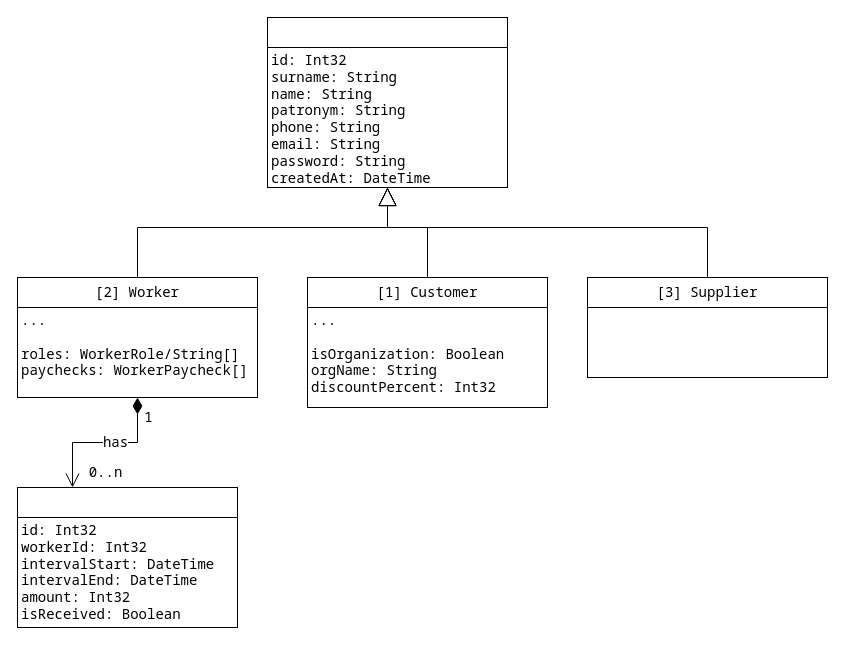
Image size: 845x645. Some labels were removed from this diagram. The shapes that lost their labels are listed below. From the top down, each one's centre as x and y in pixels, then its label:
(x=387, y=32): [P] Person
(x=707, y=342): ... orgName: String
(x=127, y=502): [19] WorkerPaycheck
